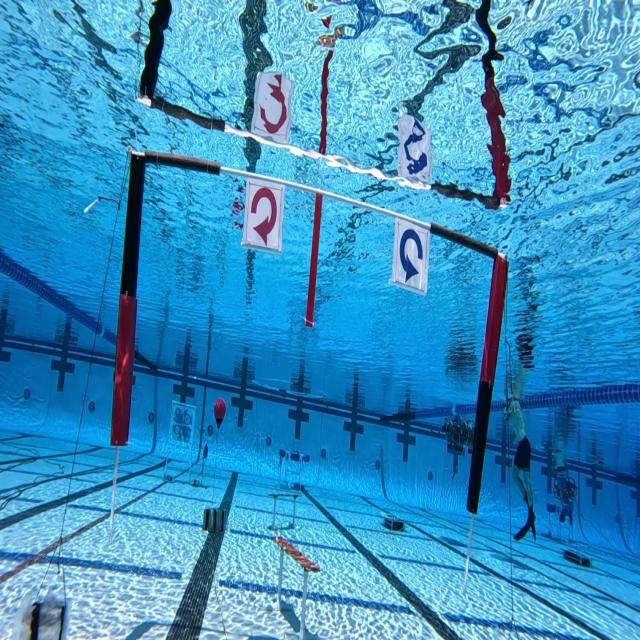blue_side: (244, 163, 284, 246), (395, 209, 428, 293)
